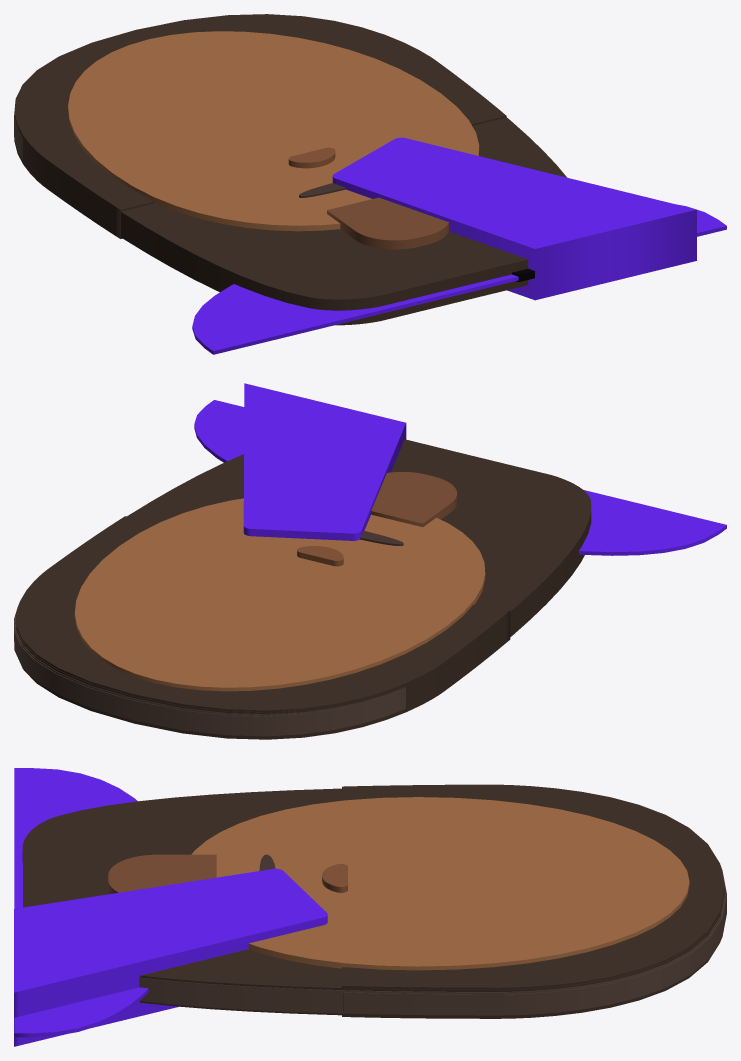
The model's file is emoji_u1f926_1f3fe_200d_2640.glb.
3 views of the same model, one above another, from view 1: azimuth 30°, elevation 25°; view 2: azimuth 150°, elevation 25°; view 3: azimuth 270°, elevation 25° (orthographic). The views are drawn at different scales.
Parts seen in each view (by area): view 1: emoji_u1f926_1f3fe_200d_2640; view 2: emoji_u1f926_1f3fe_200d_2640; view 3: emoji_u1f926_1f3fe_200d_2640.
Boxes of the visible parts, <box> form: emoji_u1f926_1f3fe_200d_2640: <box>14,14,726,354</box>; emoji_u1f926_1f3fe_200d_2640: <box>14,383,726,739</box>; emoji_u1f926_1f3fe_200d_2640: <box>14,768,726,1046</box>.
Bounding box in the file's own units: 0.0294 × 0.0028 × 0.0333.
